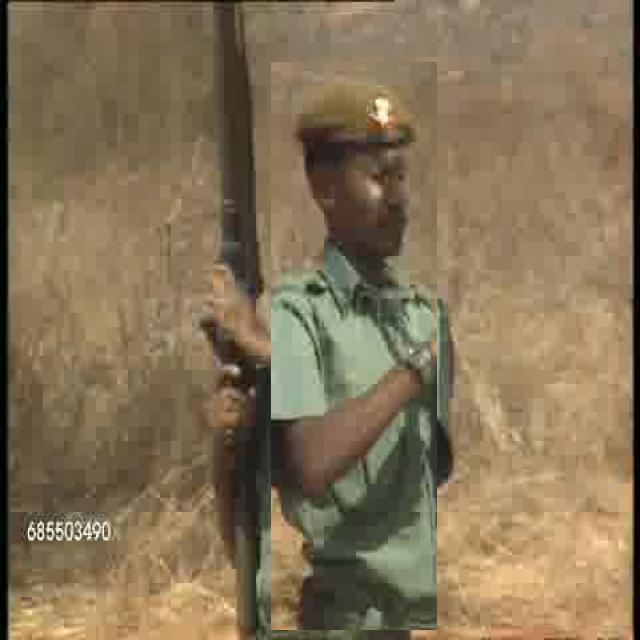poacher: (271, 62, 437, 630)
weapon: (212, 1, 275, 628)
